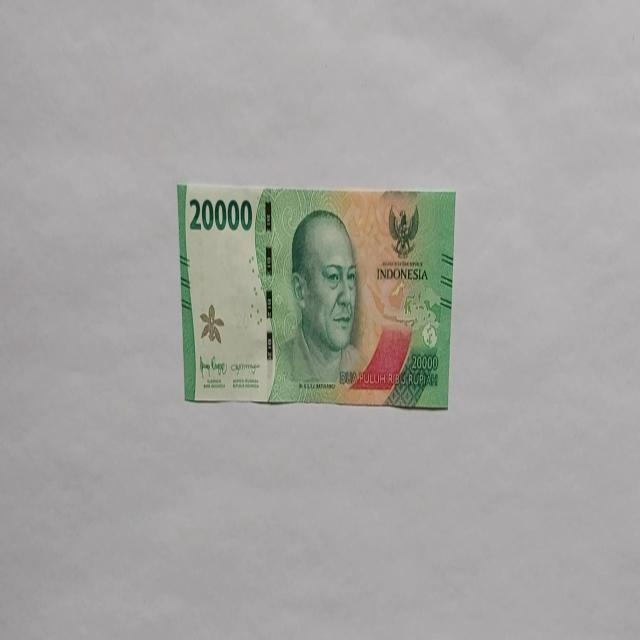dua puluh ribu rupiah: (176, 181, 456, 409), (268, 207, 368, 402)
